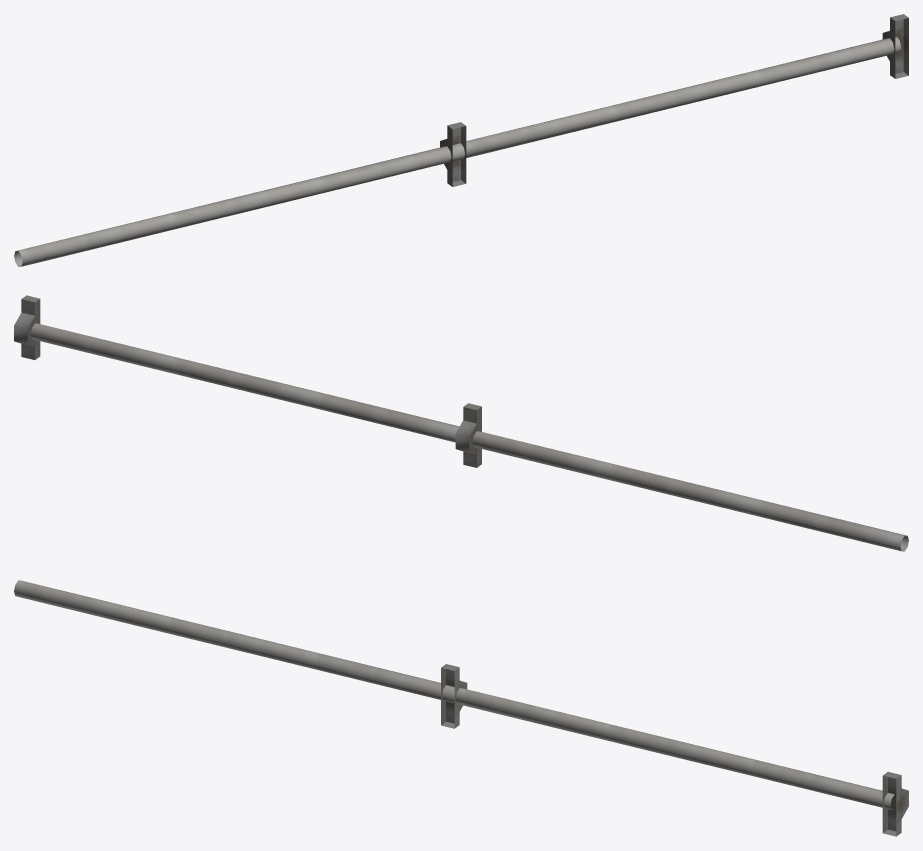
File: props_farm_conduit_pipe02.glb
3 renders of one model, top to bottom at view 1: azimuth 30°, elevation 25°; view 2: azimuth 150°, elevation 25°; view 3: azimuth 330°, elevation 25°, orthographic.
Parts seen in each view (by area): view 1: models/props_farm/conduit_pipe02; view 2: models/props_farm/conduit_pipe02; view 3: models/props_farm/conduit_pipe02.
Boxes of the visible parts, left/top/right/bottom form: models/props_farm/conduit_pipe02: left=14, top=14, right=908, bottom=266; models/props_farm/conduit_pipe02: left=14, top=295, right=908, bottom=551; models/props_farm/conduit_pipe02: left=14, top=580, right=908, bottom=836.
Size of the model in its own units: 144 by 9 by 3.58.
1 material, 1 textured.
